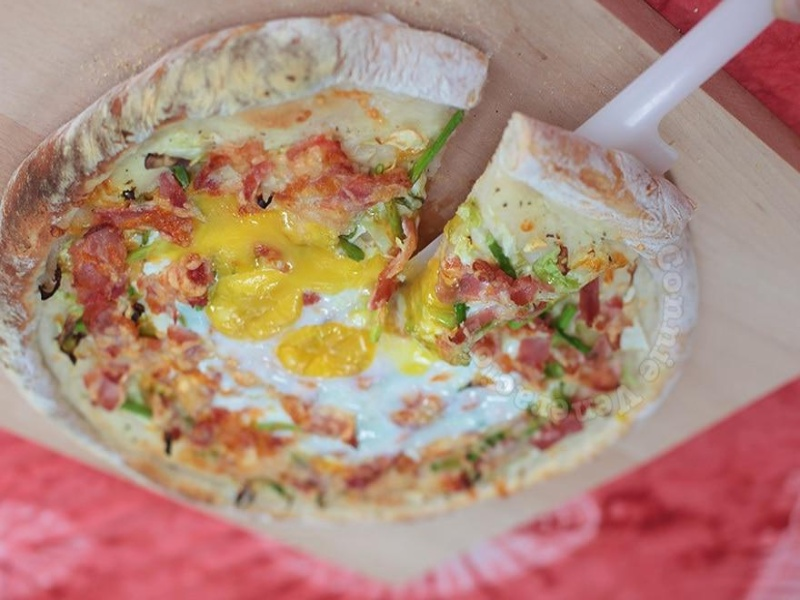oeuf: (277, 324, 392, 397), (204, 266, 305, 348)
